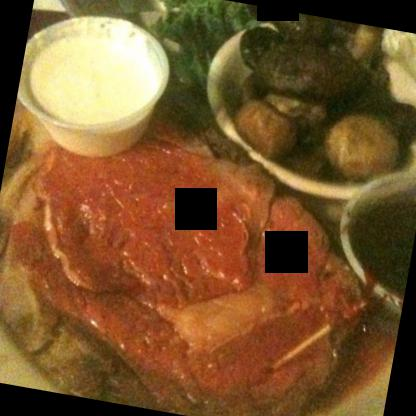beef: (0, 143, 370, 415), (20, 89, 282, 315)
yogurt: (22, 13, 164, 138)
